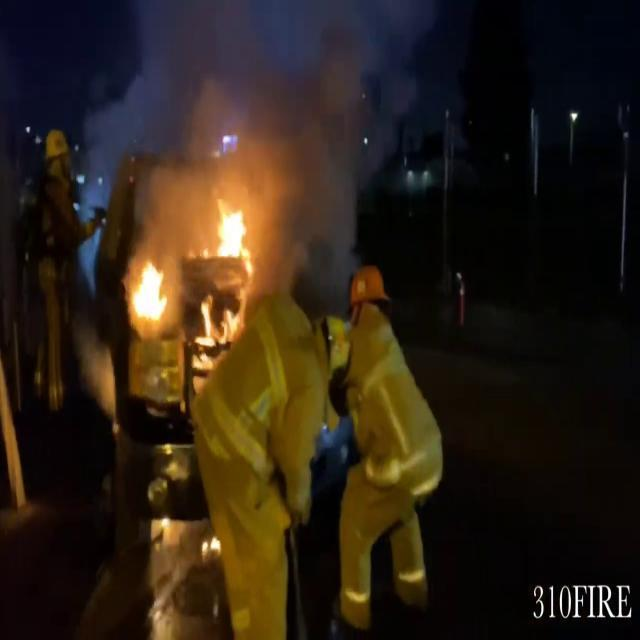Fire: (205, 195, 259, 278), (126, 252, 172, 332), (196, 292, 244, 368)
Smoke: (90, 0, 392, 250)
